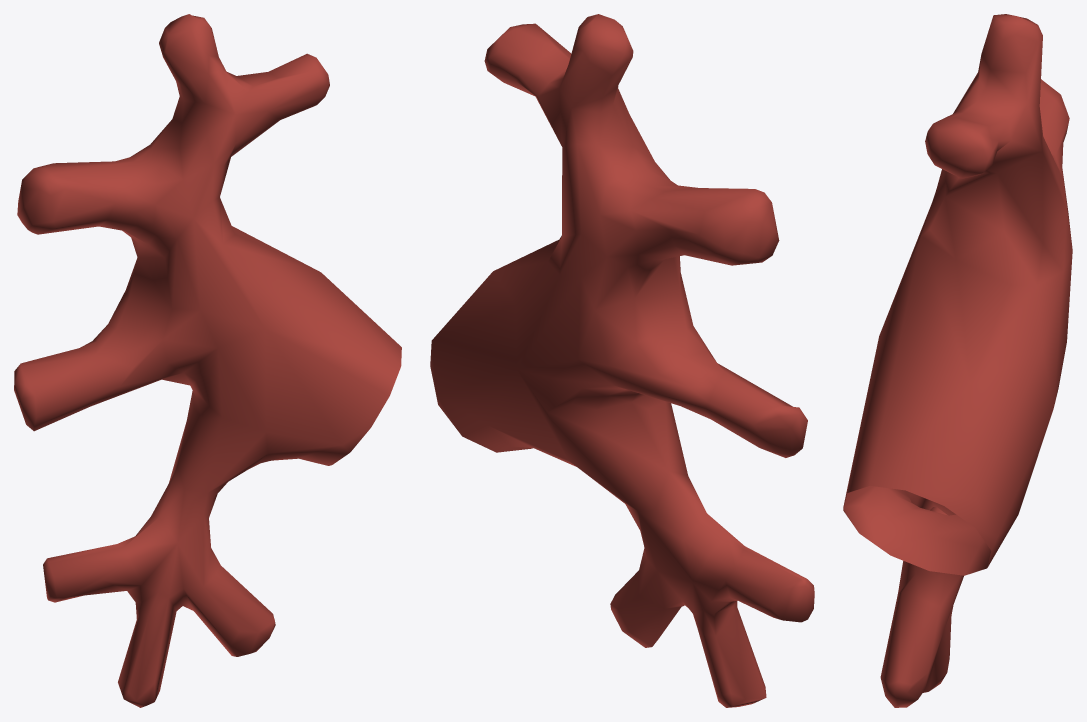
The model's file is visceras-renal-pelvis-r.glb.
The picture shows the model from 3 angles, left to right: view 1: azimuth 30°, elevation 25°; view 2: azimuth 150°, elevation 25°; view 3: azimuth 270°, elevation 25°; orthographic projection. The views are drawn at different scales.
Parts seen in each view (by area): view 1: Renal pelvis.r; view 2: Renal pelvis.r; view 3: Renal pelvis.r.
Part boxes in pixels (left/top/right/bottom): Renal pelvis.r: left=14, top=14, right=401, bottom=707; Renal pelvis.r: left=430, top=14, right=814, bottom=707; Renal pelvis.r: left=843, top=14, right=1072, bottom=707.
Size of the model in its own units: 0.0432 by 0.0744 by 0.0214.
